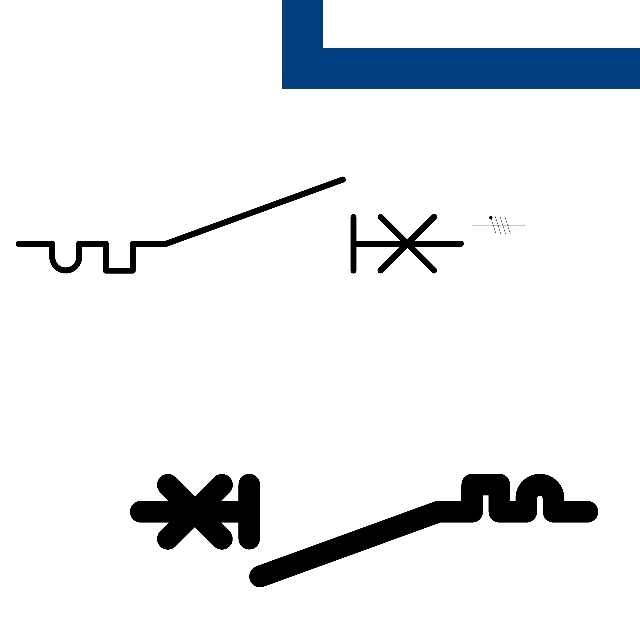interruptor_termomagnetico: (129, 473, 599, 588), (7, 168, 472, 282)
